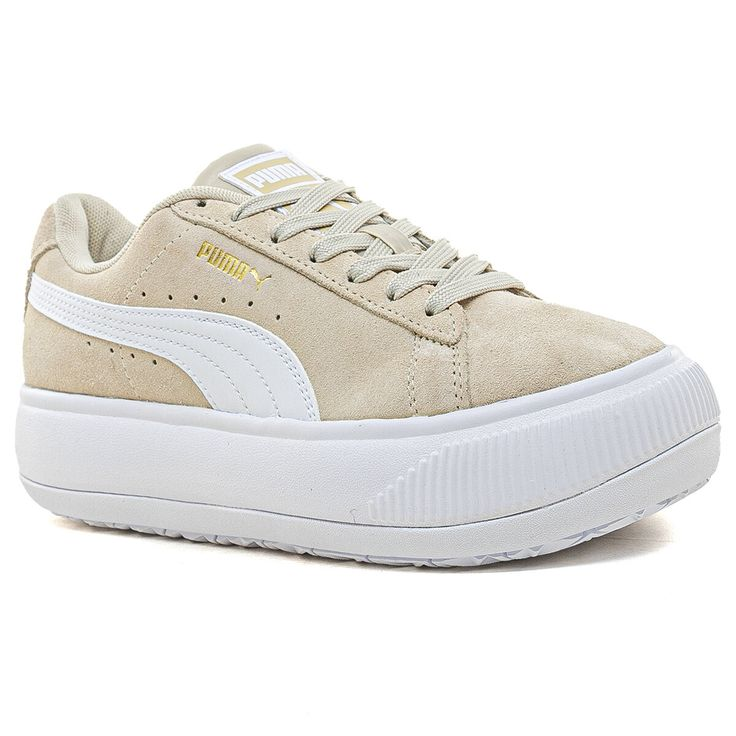gamuza: (19, 145, 668, 421)
